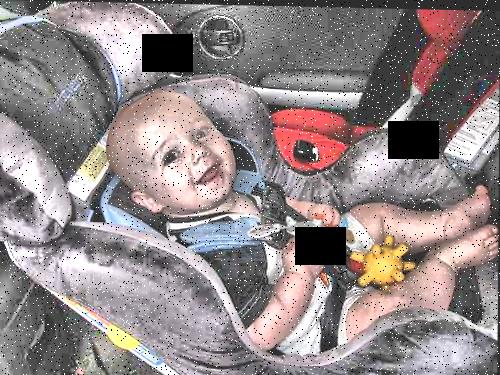seatbelt: (314, 233, 357, 355)
